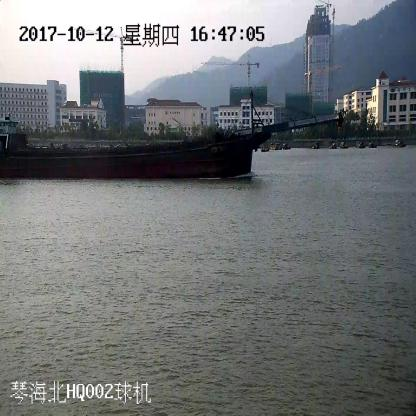Bulk Carrier: (0, 90, 338, 180)
